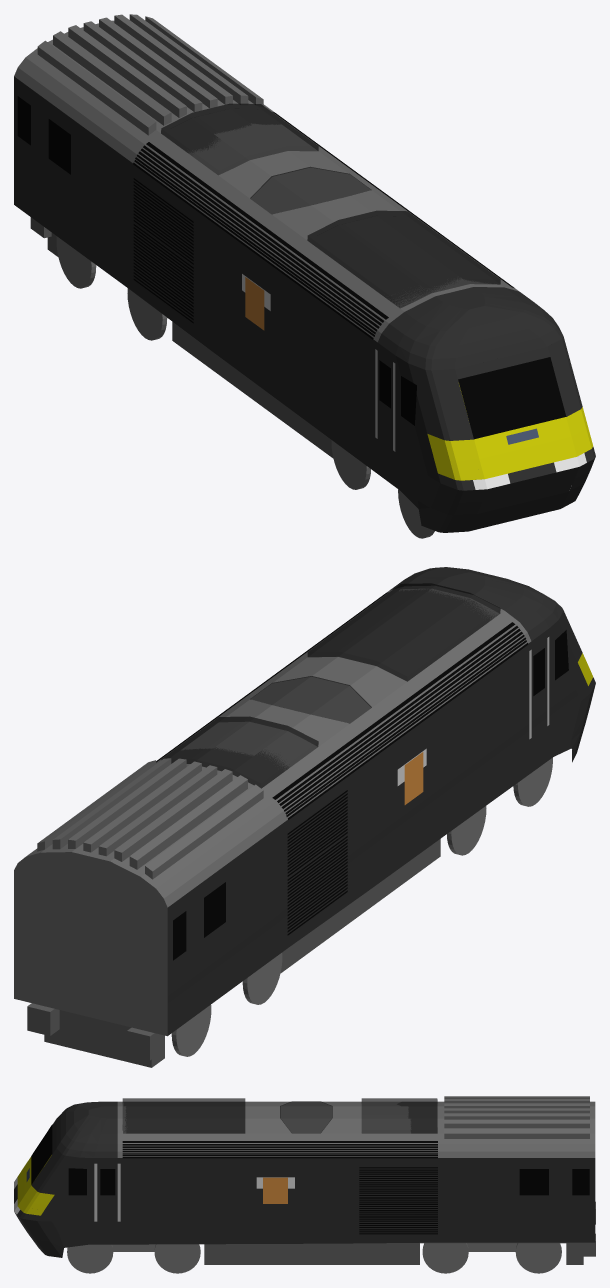
The model's file is br-cl43-front-gc1.dae.
The picture shows the model from 3 angles, top to bottom: view 1: azimuth 30°, elevation 25°; view 2: azimuth 150°, elevation 25°; view 3: azimuth 270°, elevation 25°; orthographic projection. The views are drawn at different scales.
Visible parts, largest first — view 1: Plane_030, Plane_001, Cube_008, Plane_028, Plane_135, Plane_148, Plane_136, Plane_117, Plane_166, Plane_137, Cube_033, Cylinder_008 (+5 smaller); view 2: Plane_030, Plane_001, Plane_019, Cube_008, Plane_135, Plane_148, Plane_136, Plane_166, Plane_028, Plane_137, Cube_033, Cube_001 (+8 smaller); view 3: Plane_030, Plane_001, Cube_008, Plane_104, Cube_033, Plane_135, Plane_016, Plane_028, Plane_136, Plane_137, Cylinder_010, Cylinder_011 (+13 smaller).
Part boxes in pixels (x1,y1,x2,y2): Plane_030: [14, 76, 595, 532]; Plane_001: [14, 20, 518, 342]; Cube_008: [37, 14, 263, 135]; Plane_028: [378, 287, 563, 370]; Plane_135: [307, 210, 500, 308]; Plane_148: [133, 142, 388, 339]; Plane_136: [161, 103, 318, 174]; Plane_117: [458, 357, 566, 439]; Plane_166: [133, 178, 193, 323]; Plane_137: [250, 167, 371, 214]; Cube_033: [172, 322, 333, 458]; Cylinder_008: [56, 236, 96, 288]; Plane_030: [167, 610, 595, 1035]; Plane_001: [14, 586, 531, 907]; Plane_019: [14, 870, 167, 1036]; Cube_008: [37, 758, 263, 879]; Plane_135: [307, 583, 500, 681]; Plane_148: [272, 622, 528, 819]; Plane_136: [161, 716, 318, 788]; Plane_166: [287, 790, 347, 935]; Plane_028: [390, 567, 563, 640]; Plane_137: [250, 676, 371, 723]; Cube_033: [280, 839, 440, 973]; Cube_001: [44, 1010, 164, 1067]; Plane_030: [15, 1119, 595, 1257]; Plane_001: [117, 1101, 595, 1157]; Cube_008: [444, 1096, 589, 1138]; Plane_104: [122, 1141, 437, 1158]; Cube_033: [204, 1243, 419, 1264]; Plane_135: [122, 1098, 245, 1133]; Plane_016: [359, 1167, 437, 1234]; Plane_028: [56, 1101, 117, 1157]; Plane_136: [361, 1098, 437, 1133]; Plane_137: [280, 1101, 332, 1133]; Cylinder_010: [422, 1243, 468, 1273]; Cylinder_011: [515, 1243, 561, 1273].
Size of the model in its own units: 2.06 by 9.99 by 2.77.
